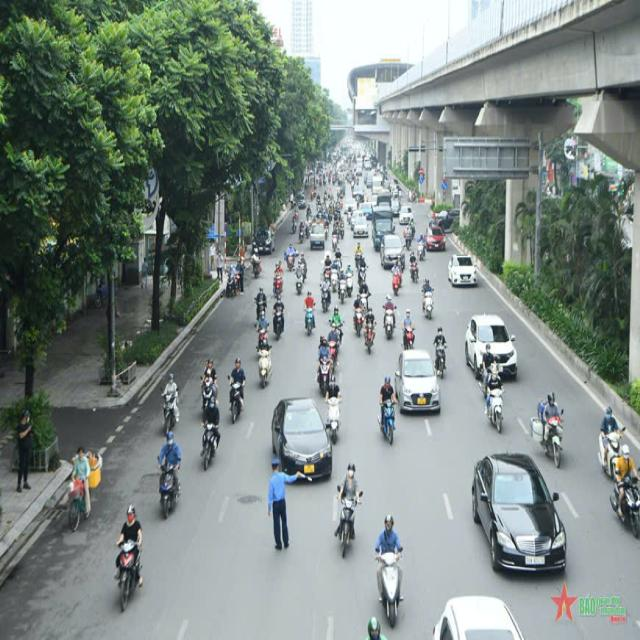Truck: (372, 212, 394, 246)
car: (473, 447, 564, 579), (465, 317, 519, 378), (395, 353, 440, 415), (446, 253, 476, 289), (383, 236, 405, 272), (424, 226, 446, 253), (311, 224, 325, 253), (400, 206, 414, 227), (354, 220, 369, 239)
motobyte: (378, 516, 402, 622), (613, 447, 640, 540), (117, 507, 140, 605), (340, 466, 362, 561), (536, 391, 567, 457), (596, 408, 627, 472), (160, 435, 182, 521), (377, 378, 399, 449), (484, 373, 508, 435), (200, 398, 218, 468), (159, 376, 178, 438), (201, 356, 218, 416), (230, 357, 244, 420), (326, 381, 340, 439), (319, 340, 333, 393), (434, 326, 449, 375), (259, 339, 270, 386), (366, 308, 377, 355), (327, 326, 339, 369), (404, 308, 416, 349), (384, 297, 394, 345), (274, 297, 284, 339), (304, 294, 314, 336), (421, 282, 432, 320), (331, 308, 342, 342), (355, 296, 364, 337), (274, 262, 284, 296), (391, 260, 401, 293), (410, 252, 420, 284), (258, 315, 267, 349), (320, 280, 330, 309), (258, 288, 266, 323), (295, 269, 304, 296), (418, 231, 425, 264), (299, 253, 307, 279), (286, 244, 294, 269), (355, 243, 363, 268), (332, 260, 338, 293), (362, 283, 369, 311), (404, 224, 412, 248), (359, 259, 367, 282), (339, 269, 344, 304), (325, 254, 331, 281), (346, 264, 351, 296), (335, 248, 342, 269), (332, 229, 338, 250), (292, 213, 298, 234), (306, 204, 312, 221), (300, 220, 304, 245), (335, 219, 340, 237), (324, 216, 328, 237), (305, 220, 309, 240), (340, 218, 344, 237), (347, 207, 351, 223)
